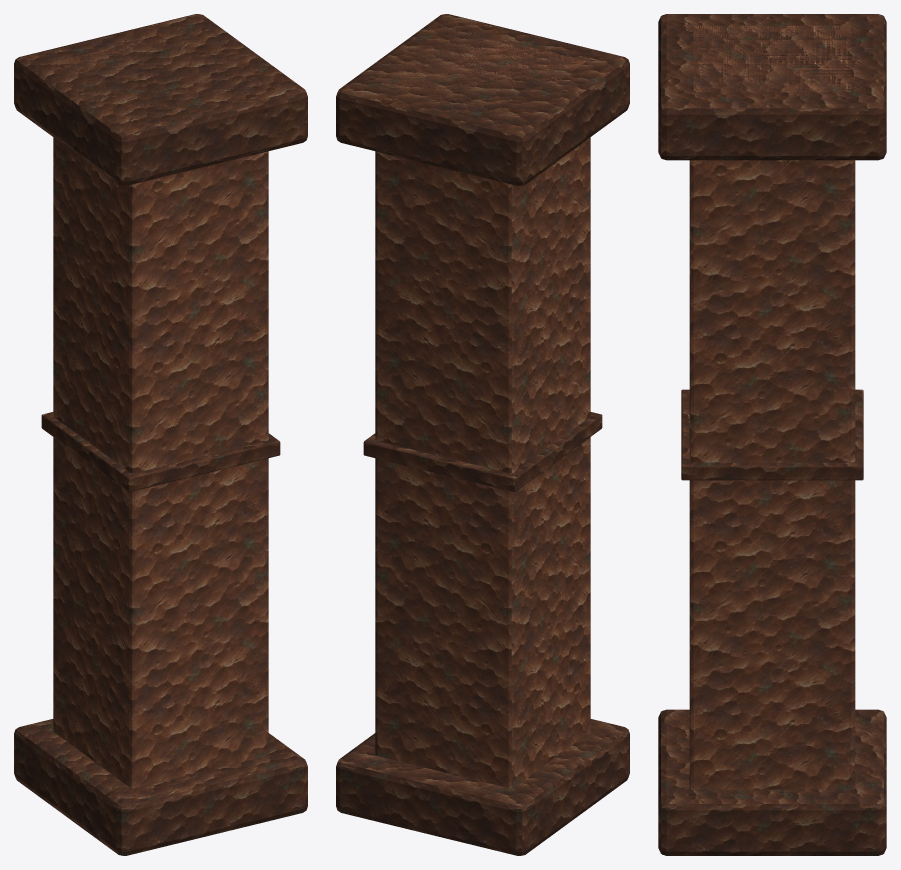
Rendered from pillar__copper_ingot.glb.
The picture shows the model from 3 angles, left to right: view 1: azimuth 30°, elevation 25°; view 2: azimuth 150°, elevation 25°; view 3: azimuth 270°, elevation 25°; orthographic projection. The views are drawn at different scales.
Parts seen in each view (by area): view 1: model; view 2: model; view 3: model.
Part boxes in pixels (bbox=[...]): model: bbox=[14, 14, 307, 855]; model: bbox=[336, 14, 629, 855]; model: bbox=[658, 14, 886, 855].
Size of the model in its own units: 0.55 by 2 by 0.55.
Materials: 2 (2 with a texture image).
